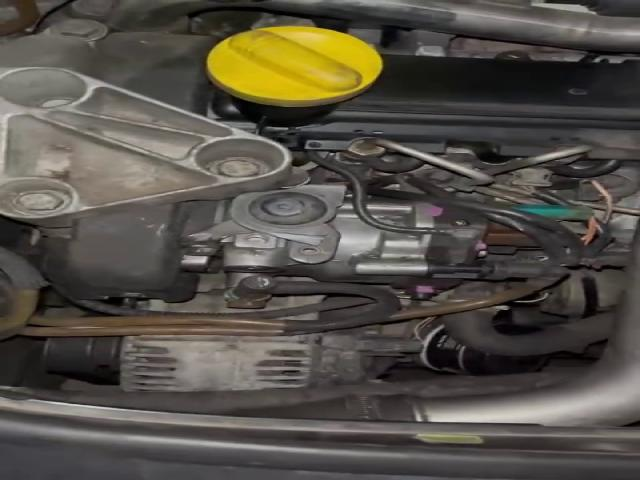alternator: (118, 323, 424, 393)
high_pressure_pump: (211, 198, 530, 300)
